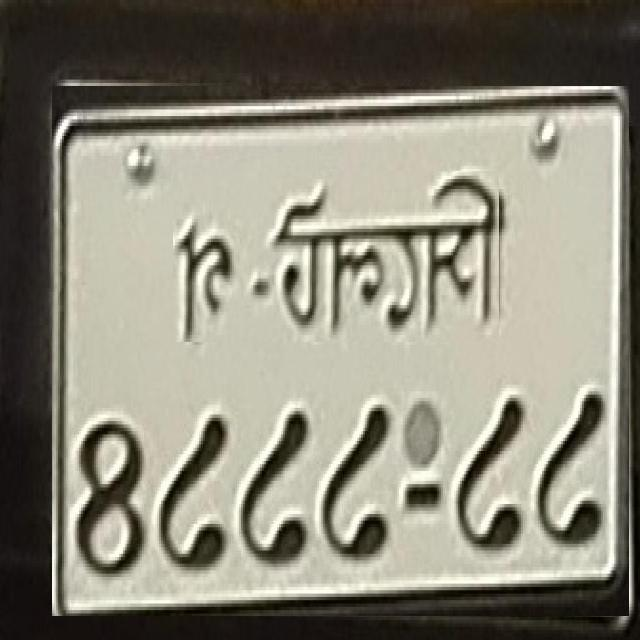cng: (173, 171, 499, 342)
numberplate: (52, 86, 629, 616)
